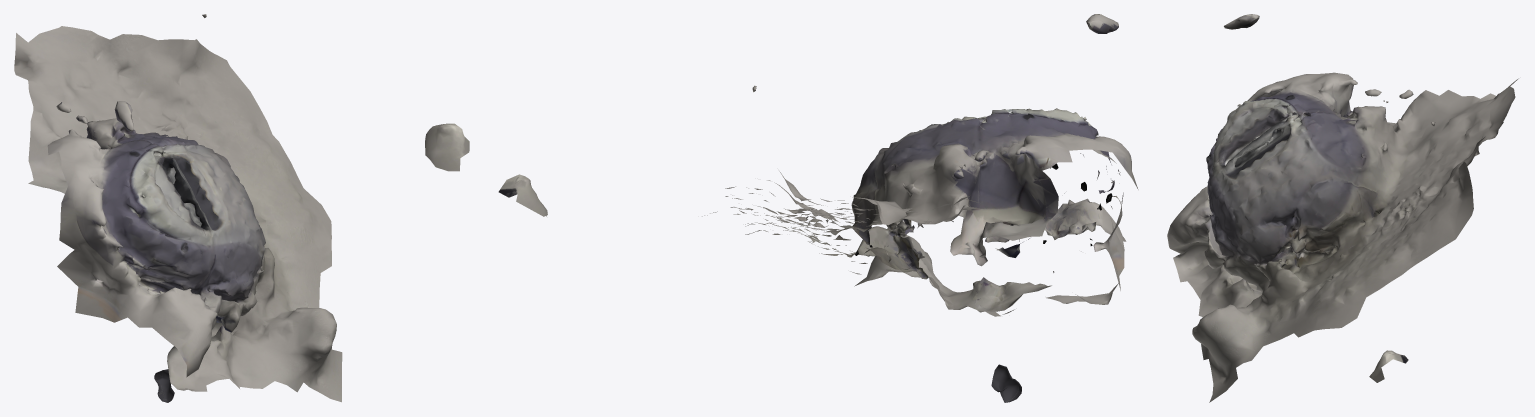
The model's file is 3DModel_LowPoly.glb.
3 renders of one model, left to right at view 1: azimuth 30°, elevation 25°; view 2: azimuth 150°, elevation 25°; view 3: azimuth 270°, elevation 25°, orthographic. The views are drawn at different scales.
Parts seen in each view (by area): view 1: defaultobject; view 2: defaultobject; view 3: defaultobject.
Part boxes in pixels (x1,y1,x2,y2): defaultobject: (14,14,469,402); defaultobject: (498,14,1138,402); defaultobject: (1167,14,1518,402).
Size of the model in its own units: 3.91 by 2.63 by 2.8.
1 material, 1 textured.
